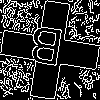B: (25, 25, 65, 76)
